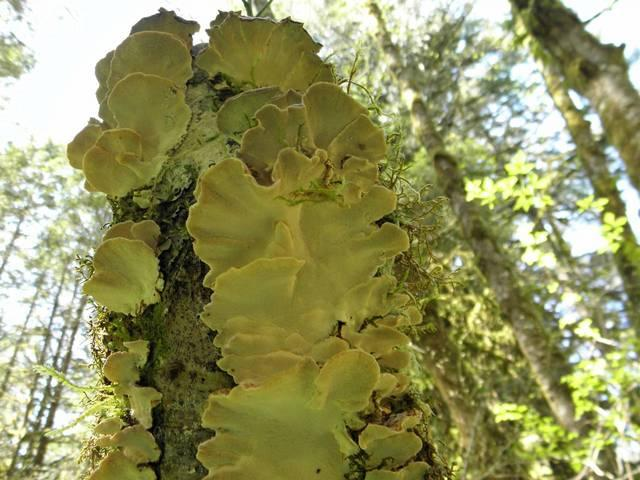poisonous_mushroom: (53, 8, 324, 480), (183, 79, 431, 478)
